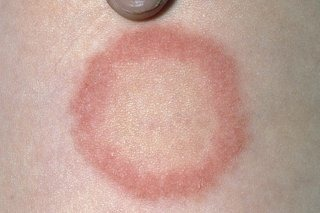Ringworm: (70, 20, 260, 204)
